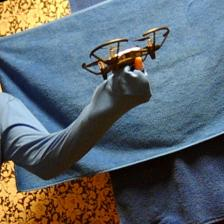drone: (81, 27, 172, 77)
